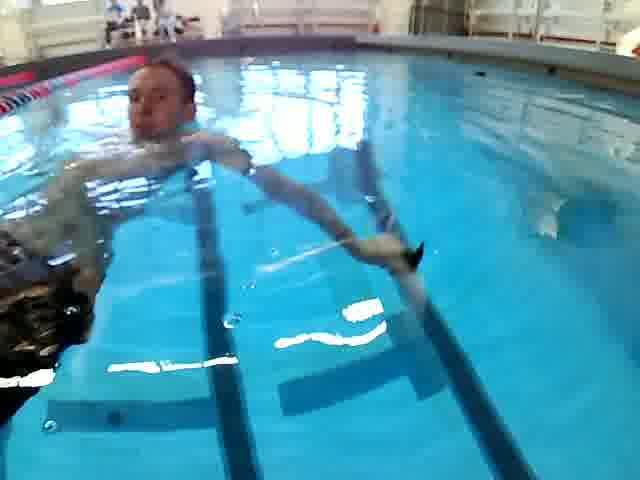CamMount: (395, 235, 429, 275)
